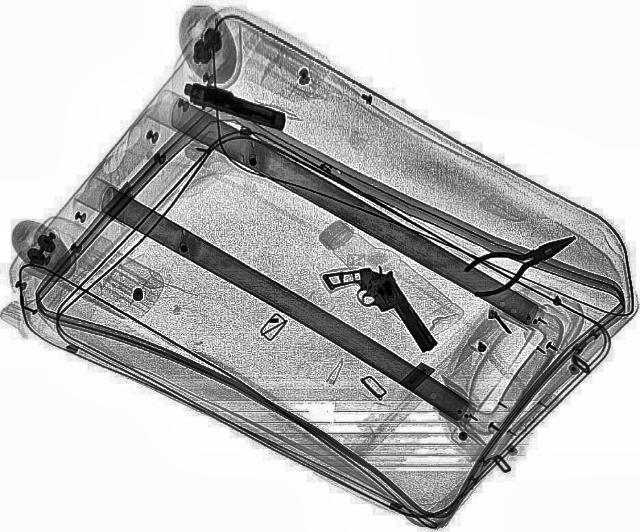Gun: (317, 253, 438, 368), (175, 78, 292, 132)
Pliers: (453, 220, 589, 302)
